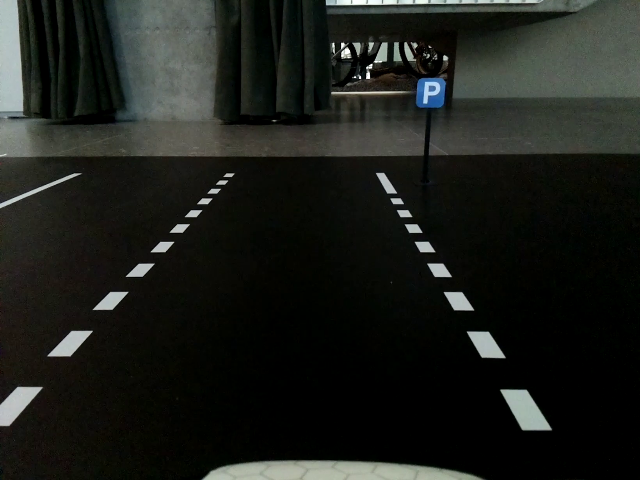park: (417, 78, 445, 110)
